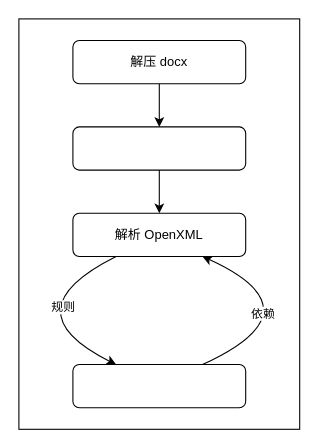
This 319x448 diagram has some shape labels left out. Each missing label, with the box of its shape:
读取 OpenXML: (72, 126, 246, 170)
转换形成scheme: (72, 363, 246, 408)
